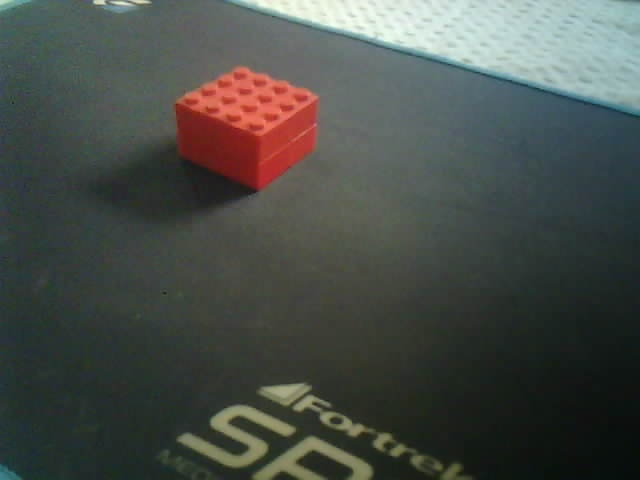lego: (173, 65, 318, 191)
